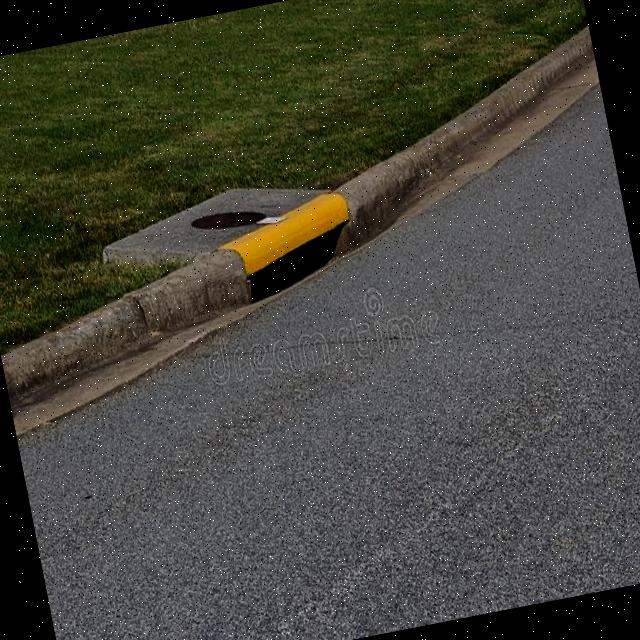curb: (364, 17, 611, 223), (1, 241, 262, 423), (206, 172, 438, 318)
